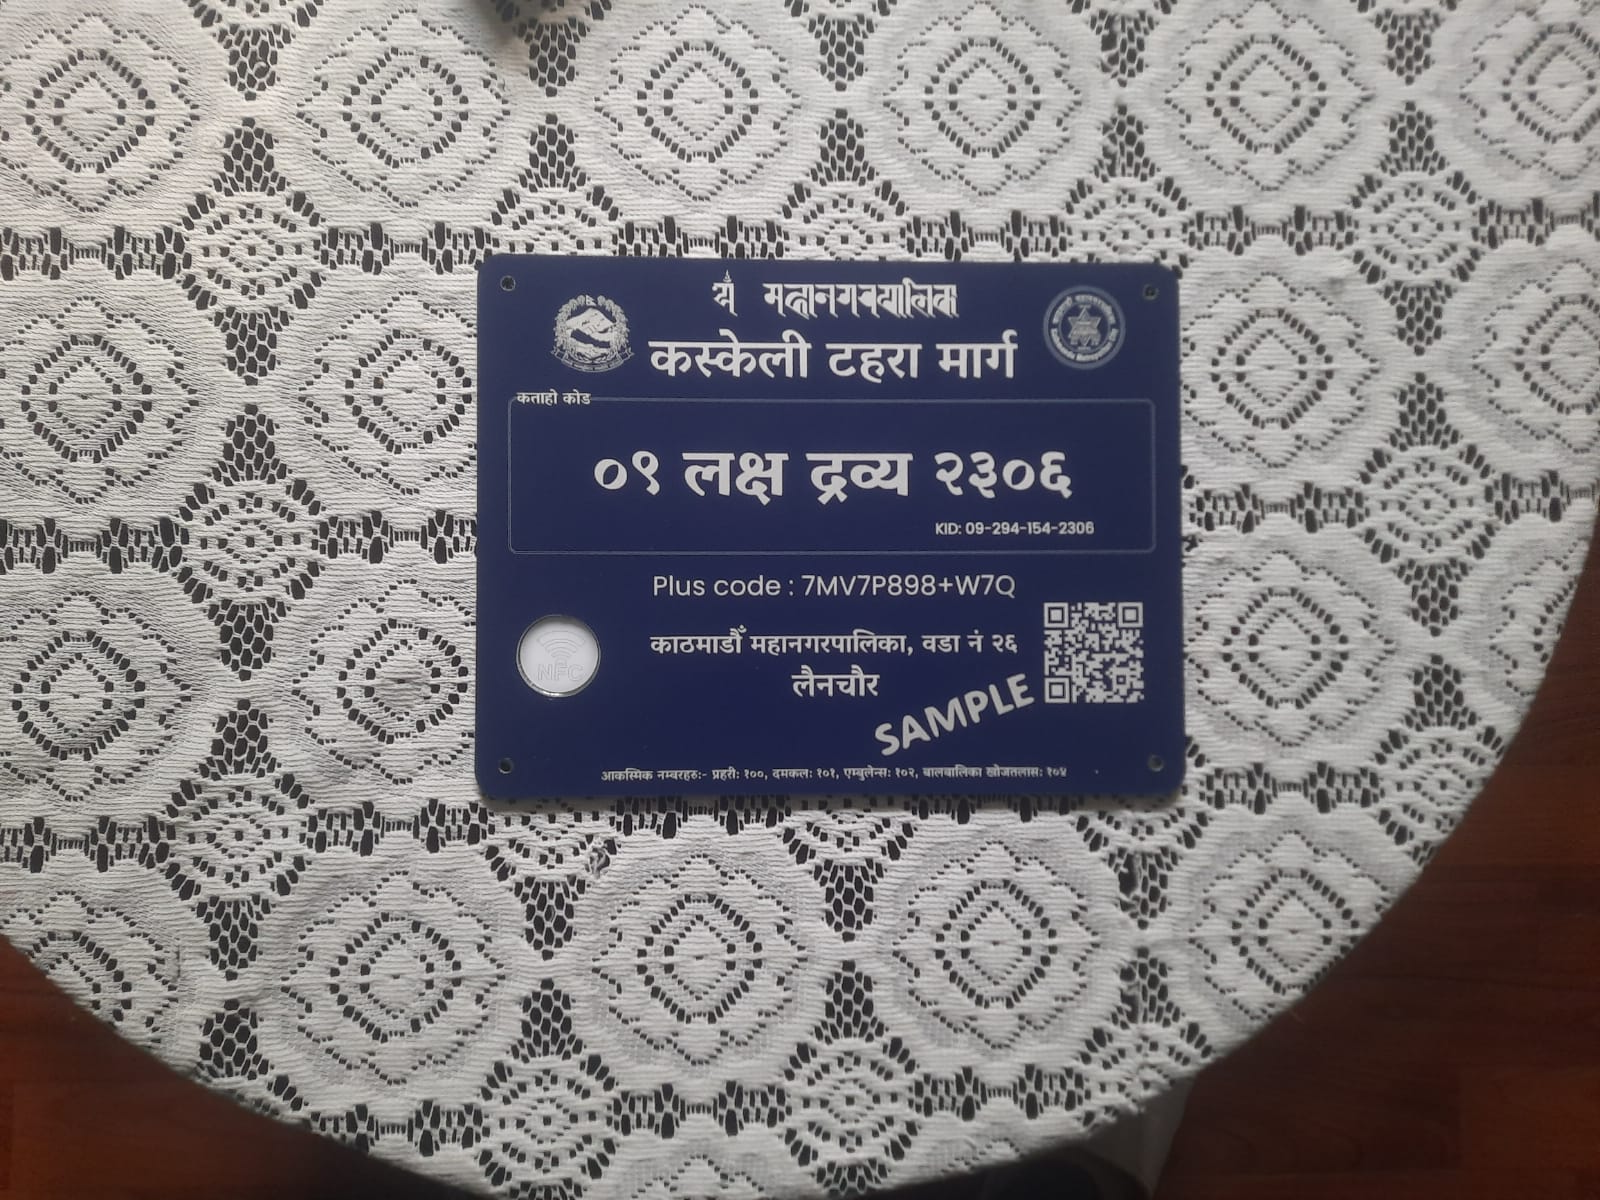Plate: (473, 247, 1189, 805)
